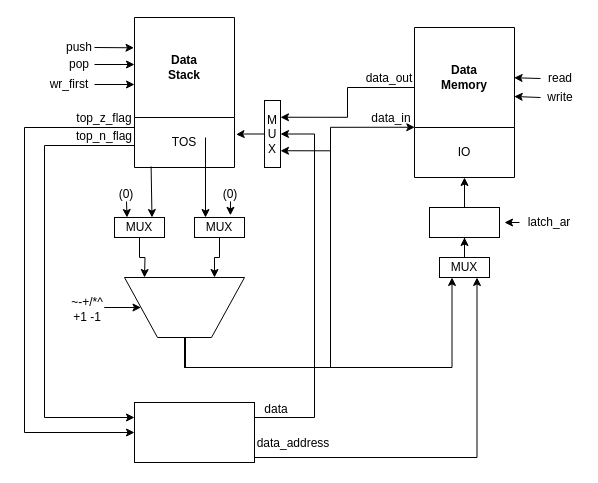
The diagram is 598 pixels wide and 483 high, and some of its shapes have lost their labels. The centre of each missing label's shape, as x and y in pixels:
ALU: the point at 184,307
AR: the point at 464,222
Control Unit: the point at 194,432
